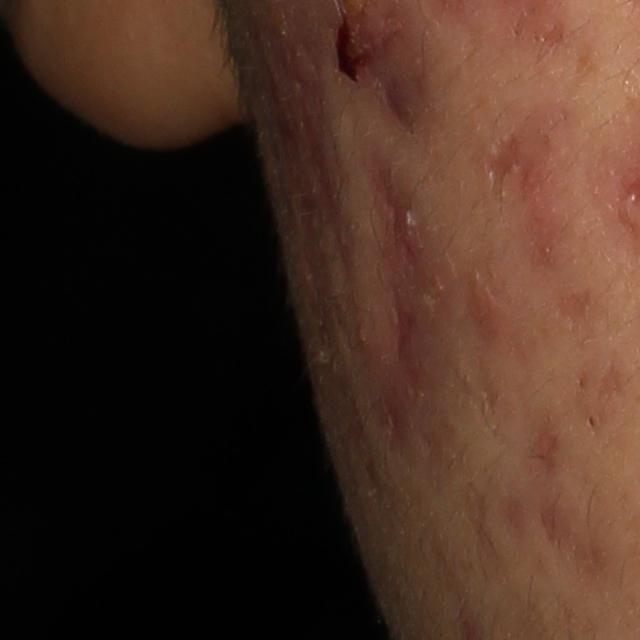atrophic_scar: (365, 149, 425, 364), (479, 120, 531, 203), (551, 286, 593, 326)
comedo: (585, 412, 598, 433)
